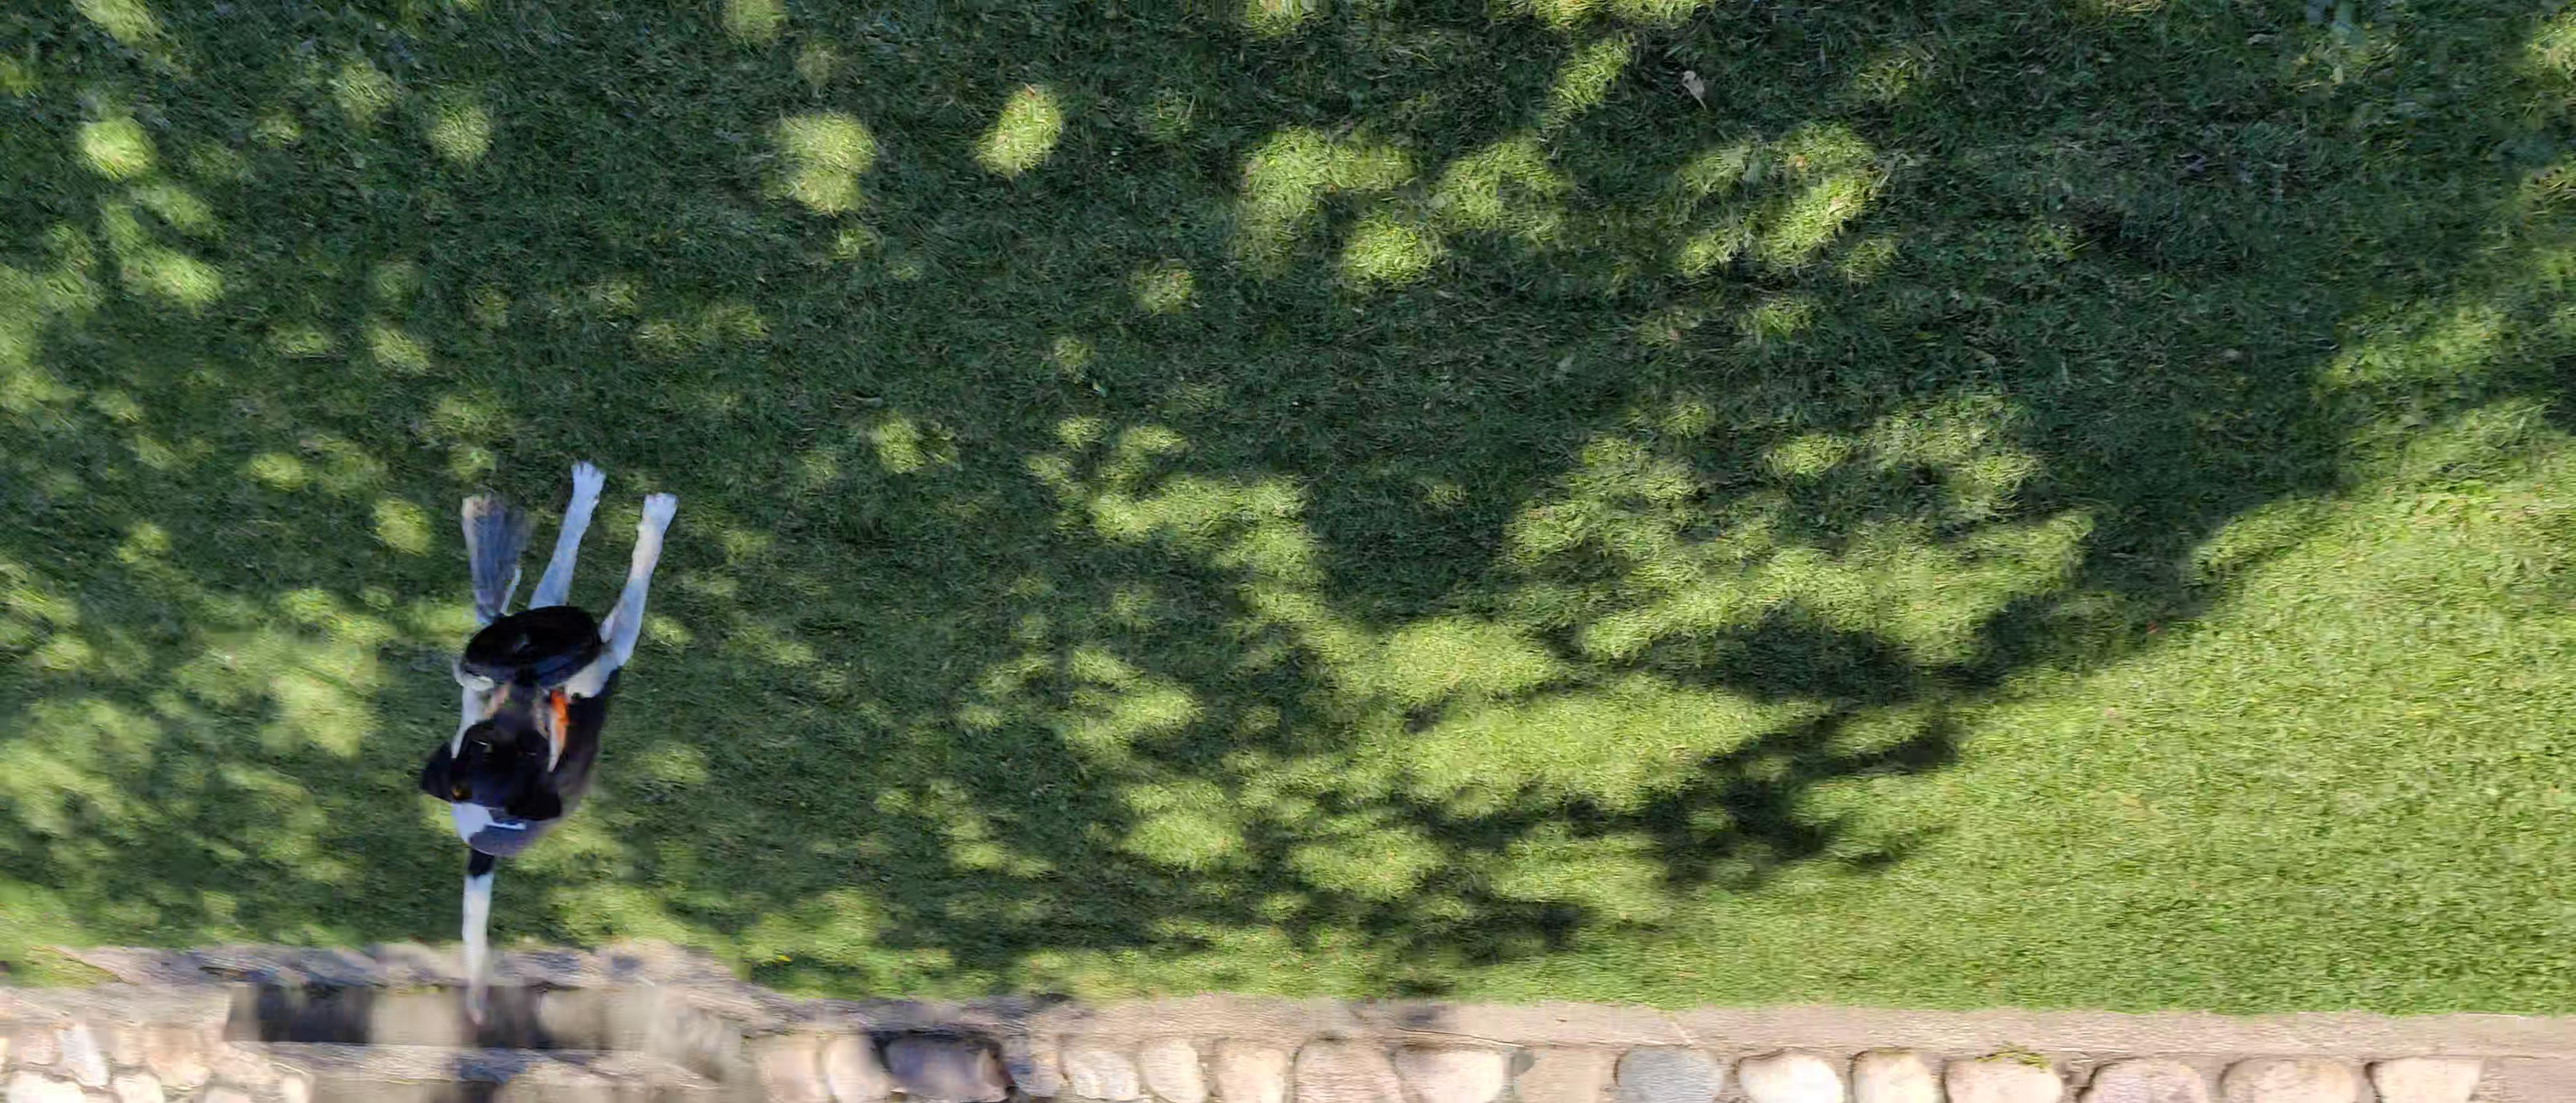Dog: (407, 447, 678, 1039)
